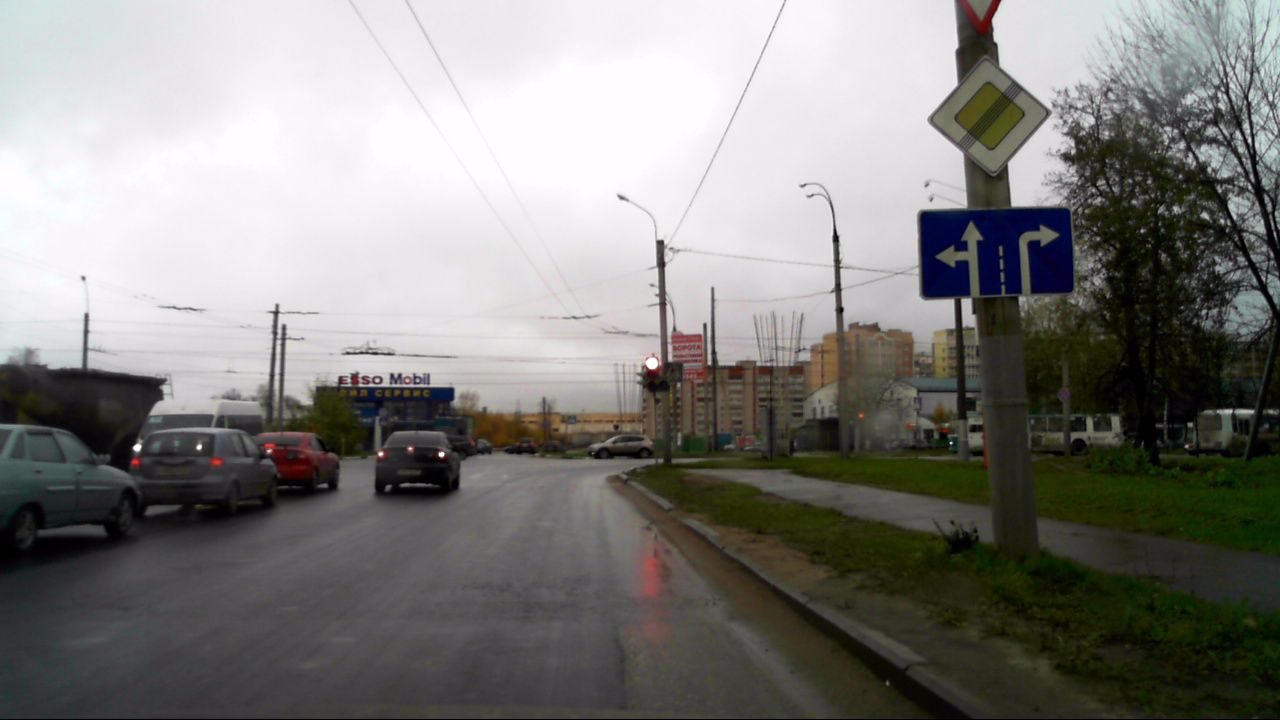main road: (928, 56, 1051, 179)
